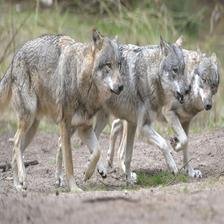WOLF: (19, 32, 122, 171), (136, 36, 192, 169), (187, 54, 220, 147)
